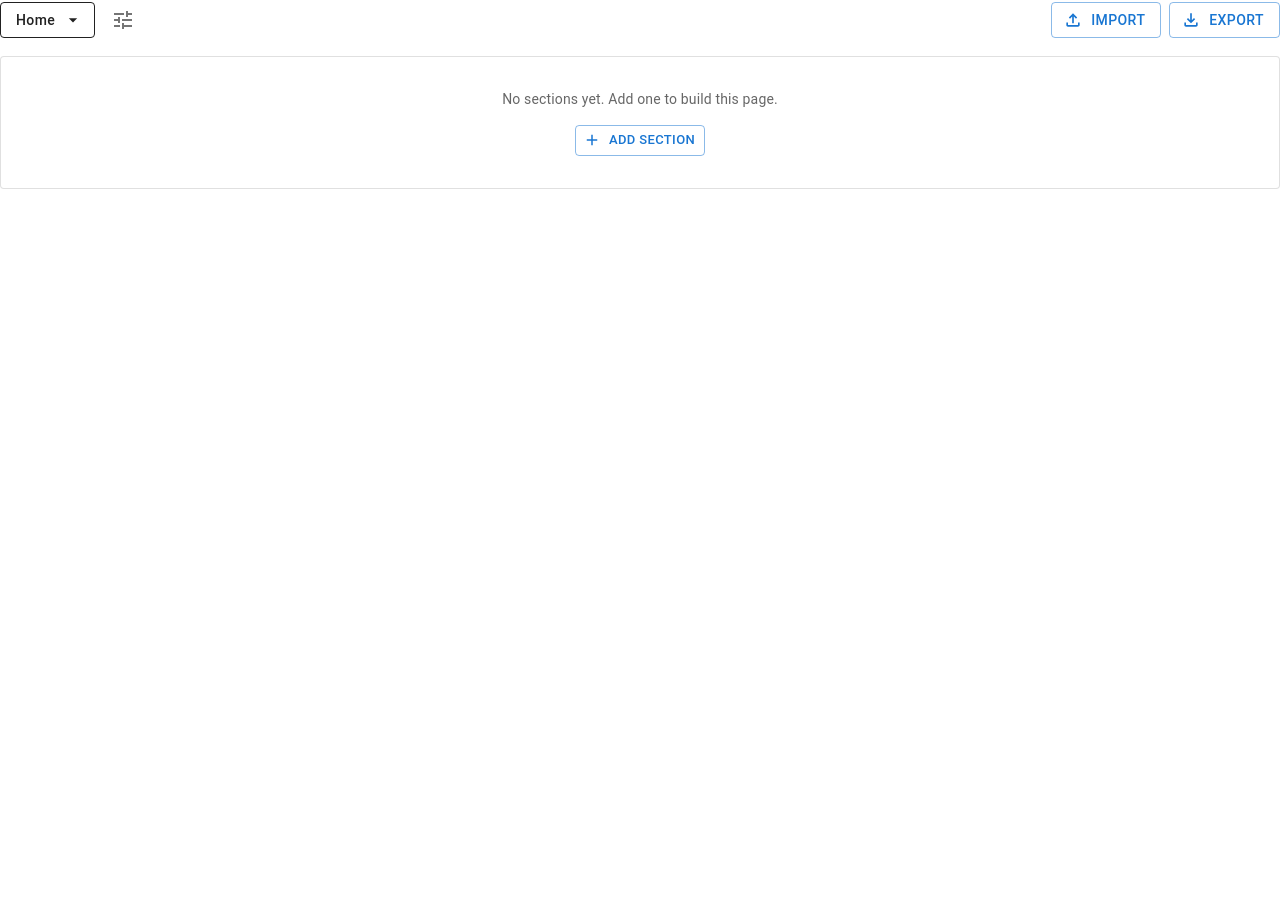
PagesEditor › locks the home page: route/name read-only and delete disabled
Note: Open the settings dialog for the (auto-selected) home page.
Click the button named "page settings": (123,20) [103, 0, 143, 40]
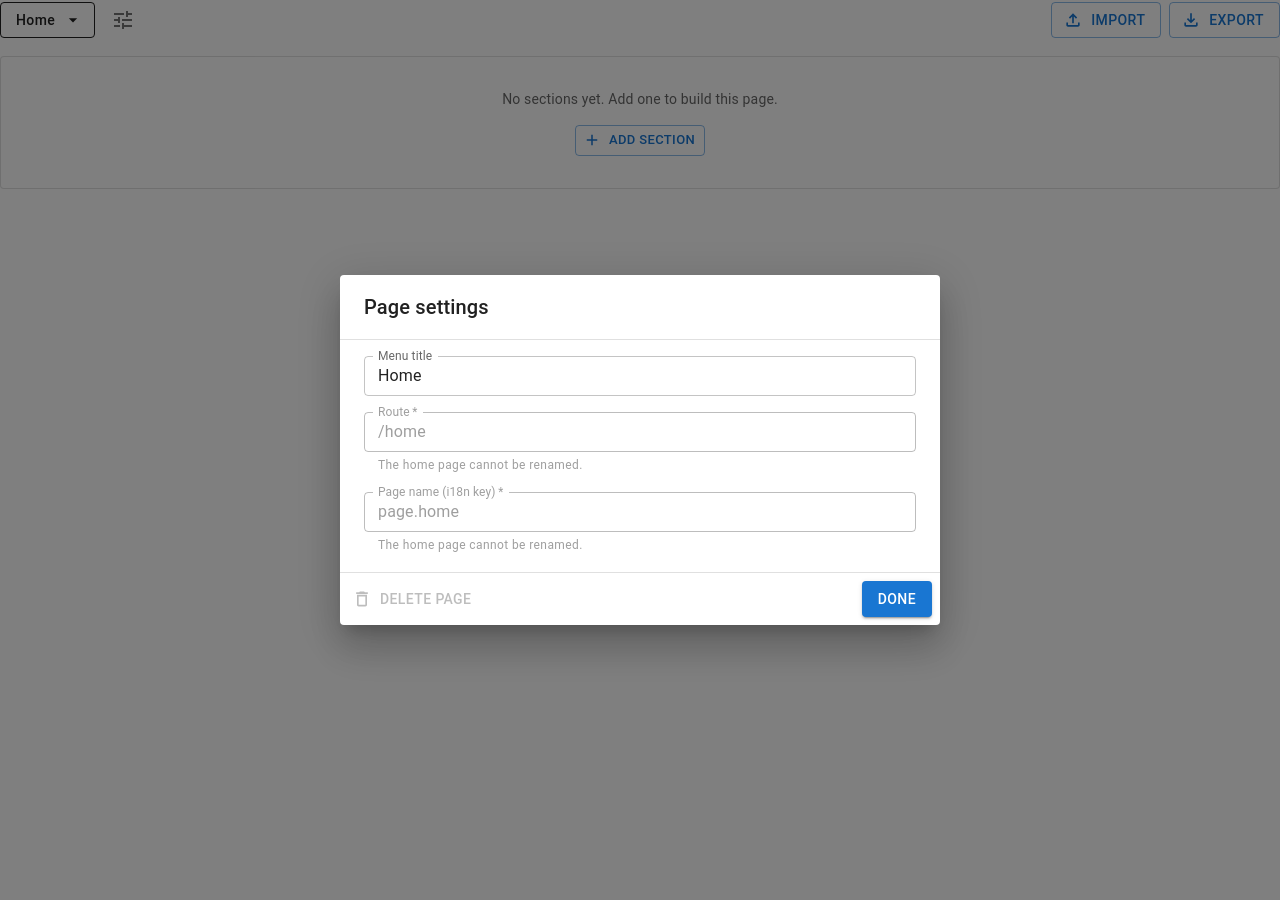
Expected: the field labelled "Route *" is disabled, [364, 412, 916, 452]
Expected: the field labelled "Page name (i18n key) *" is disabled, [364, 492, 916, 532]
Expected: the button "Delete page" is disabled, [348, 581, 479, 617]
